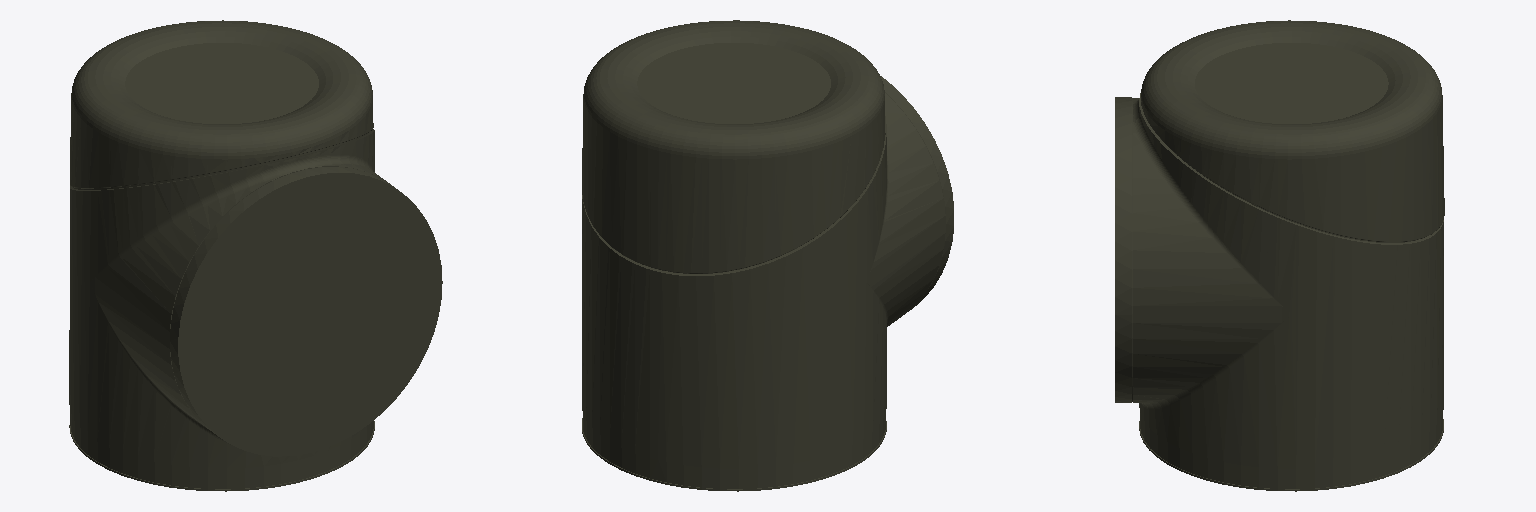
robot.urdf — tm700:
<?xml version="1.0" ?>
<robot name="tm700">

  <link name="base_link">
    <visual>
      <geometry>
        <mesh filename="package://tm_description/meshes/tm700/visual/Base.STL" />
      </geometry>
      <material name="LightGrey">
        <color rgba="0.5 0.5 0.5 1.0"/>
      </material>
    </visual>
    <collision>
      <geometry>
        <mesh filename="package://tm_description/meshes/tm700/collision/base.STL" />
      </geometry>
    </collision>
  </link>
  
  <link name="shoulder_1_link">
    <visual>
      <geometry>
        <mesh filename="package://tm_description/meshes/tm700/visual/Shoulder1.STL" />
      </geometry>
      <material name="Grey">
        <color rgba="0.3 0.3 0.25 1.0"/>
      </material>
    </visual>
    <collision>
      <geometry>
        <mesh filename="package://tm_description/meshes/tm700/collision/shoulder_1.STL" />
      </geometry>
    </collision>
  </link>

  <joint name="shoulder_1_joint" type="revolute">
    <parent link="base_link"/>
    <child link="shoulder_1_link"/>
    <origin  xyz="0 0 0.1451" rpy="-1.57079627 0 0"/>
    <axis xyz="0 -1 0"/>
    <limit effort="10.0" lower="-3.14" upper="3.14" velocity="1.0"/>
  </joint>
  
  <link name="arm_1_link">
    <visual>
      <geometry>
        <mesh filename="package://tm_description/meshes/tm700/visual/Arm1.STL" />
      </geometry>
      <material name="Grey">
        <color rgba="0.3 0.3 0.25 1.0"/>
      </material>
    </visual>
    <collision>
      <geometry>
        <mesh filename="package://tm_description/meshes/tm700/collision/arm_1.STL" />
      </geometry>
    </collision>
  </link>

  <joint name="shoulder_2_joint" type="revolute">
    <parent link="shoulder_1_link"/>
    <child link="arm_1_link"/>
    <origin xyz="0 0 -0.146" rpy="0 0 -1.57079627"/>
    <axis xyz="0 0 1"/>
    <limit effort="10.0" lower="-3.14" upper="3.14" velocity="1.0"/>
  </joint>
  
  <link name="arm_2_link">
    <visual>
      <geometry>
        <mesh filename="package://tm_description/meshes/tm700/visual/Arm2.STL" />
      </geometry>
      <material name="Grey">
        <color rgba="0.3 0.3 0.25 1.0"/>
      </material>
    </visual>
    <collision>
      <geometry>
        <mesh filename="package://tm_description/meshes/tm700/collision/arm_2.STL" />
      </geometry>
    </collision>
  </link>
  
  <joint name="elbow_1_joint" type="revolute">
    <parent link="arm_1_link"/>
    <child link="arm_2_link"/>
    <origin xyz="0.329 0 0.1298" rpy="0 0 0"/>
    <axis xyz="0 0 1"/>
    <limit effort="10.0" lower="-3.14" upper="3.14" velocity="1.0"/>
  </joint>
  
  <link name="wrist_1_link">
    <visual>
      <geometry>
        <mesh filename="package://tm_description/meshes/tm700/visual/Wrist1.STL" />
      </geometry>
      <material name="Grey">
        <color rgba="0.3 0.3 0.25 1.0"/>
      </material>
    </visual>
    <collision>
      <geometry>
        <mesh filename="package://tm_description/meshes/tm700/collision/wrist_1.STL" />
      </geometry>
    </collision>
  </link>

  <joint name="wrist_1_joint" type="revolute">
    <parent link="arm_2_link"/>
    <child link="wrist_1_link"/>
    <origin xyz="0.3115 0 -0.106" rpy="1.57079627 0 1.57079627"/>
    <axis xyz="0 1 0"/>
    <limit effort="10.0" lower="-3.14" upper="3.14" velocity="1.0"/>
  </joint>
  
  <link name="wrist_2_link">
    <visual>
      <geometry>
        <mesh filename="package://tm_description/meshes/tm700/visual/Wrist2.STL" />
      </geometry>
      <material name="Grey">
        <color rgba="0.3 0.3 0.25 1.0"/>
      </material>
    </visual>
    <collision>
      <geometry>
        <mesh filename="package://tm_description/meshes/tm700/collision/wrist_2.STL" />
      </geometry>
    </collision>
  </link>

  <joint name="wrist_2_joint" type="revolute">
    <parent link="wrist_1_link"/>
    <child link="wrist_2_link"/>
    <origin xyz="0 0 0.106" rpy="1.57079627 0 0"/>
    <axis xyz="0 1 0"/>
    <limit effort="10.0" lower="-3.14" upper="3.14" velocity="1.0"/>
  </joint>
  
  <link name="wrist_3_link">
    <visual>
      <geometry>
        <mesh filename="package://tm_description/meshes/tm700/visual/Wrist3.STL" />
      </geometry>
      <origin xyz="0 0 0.015" rpy="0 0 0"/>
      <material name="LightGrey">
        <color rgba="0.5 0.5 0.5 1.0"/>
      </material>
    </visual>
    <collision>
      <geometry>
        <mesh filename="package://tm_description/meshes/tm700/collision/wrist_3.STL" />
      </geometry>
    </collision>
  </link>

  <joint name="wrist_3_joint" type="revolute">
    <parent link="wrist_2_link"/>
    <child link="wrist_3_link"/>
    <origin xyz="0 0 0.0565" rpy="0 0 0"/>
    <axis xyz="0 0 1"/>
    <limit effort="10.0" lower="-3.14" upper="3.14" velocity="1.0"/>
  </joint>
  
  <link name="tip_link">
    <collision>
      <geometry>
        <box size="0.01 0.01 0.01"/>
      </geometry>
      <origin xyz="0 0 0.01" rpy="0 0 0"/>
    </collision>
  </link>

  <joint name="tip_fixed_joint" type="fixed">
    <parent link="wrist_3_link"/>
    <child link="tip_link"/>
    <origin xyz="0 0 0.0579" rpy="0 0 0"/>
  </joint>

</robot>

--- Render facts (derived) ---
Views: 3 orthographic renders of the robot side by side, from view 1: azimuth 30°, elevation 25°; view 2: azimuth 150°, elevation 25°; view 3: azimuth 270°, elevation 25°.
Model tm700 with 8 links and 7 joints (6 revolute, 1 fixed), rooted at base_link, posed every joint at zero.
Visible links, largest first — view 1: shoulder_1_link; view 2: shoulder_1_link; view 3: shoulder_1_link.
Boxes of the visible links, bbox=[...] form: shoulder_1_link: bbox=[69, 20, 442, 491]; shoulder_1_link: bbox=[582, 20, 953, 491]; shoulder_1_link: bbox=[1115, 20, 1444, 491].
Bounding box of the posed robot: 0.148 × 0.1597 × 0.1872 m (x, y, z).
Meshes: 7 distinct files referenced, 1 mesh visuals loaded (1 binary STL); not drawn: 6 (reference not matched to a file when rendering).